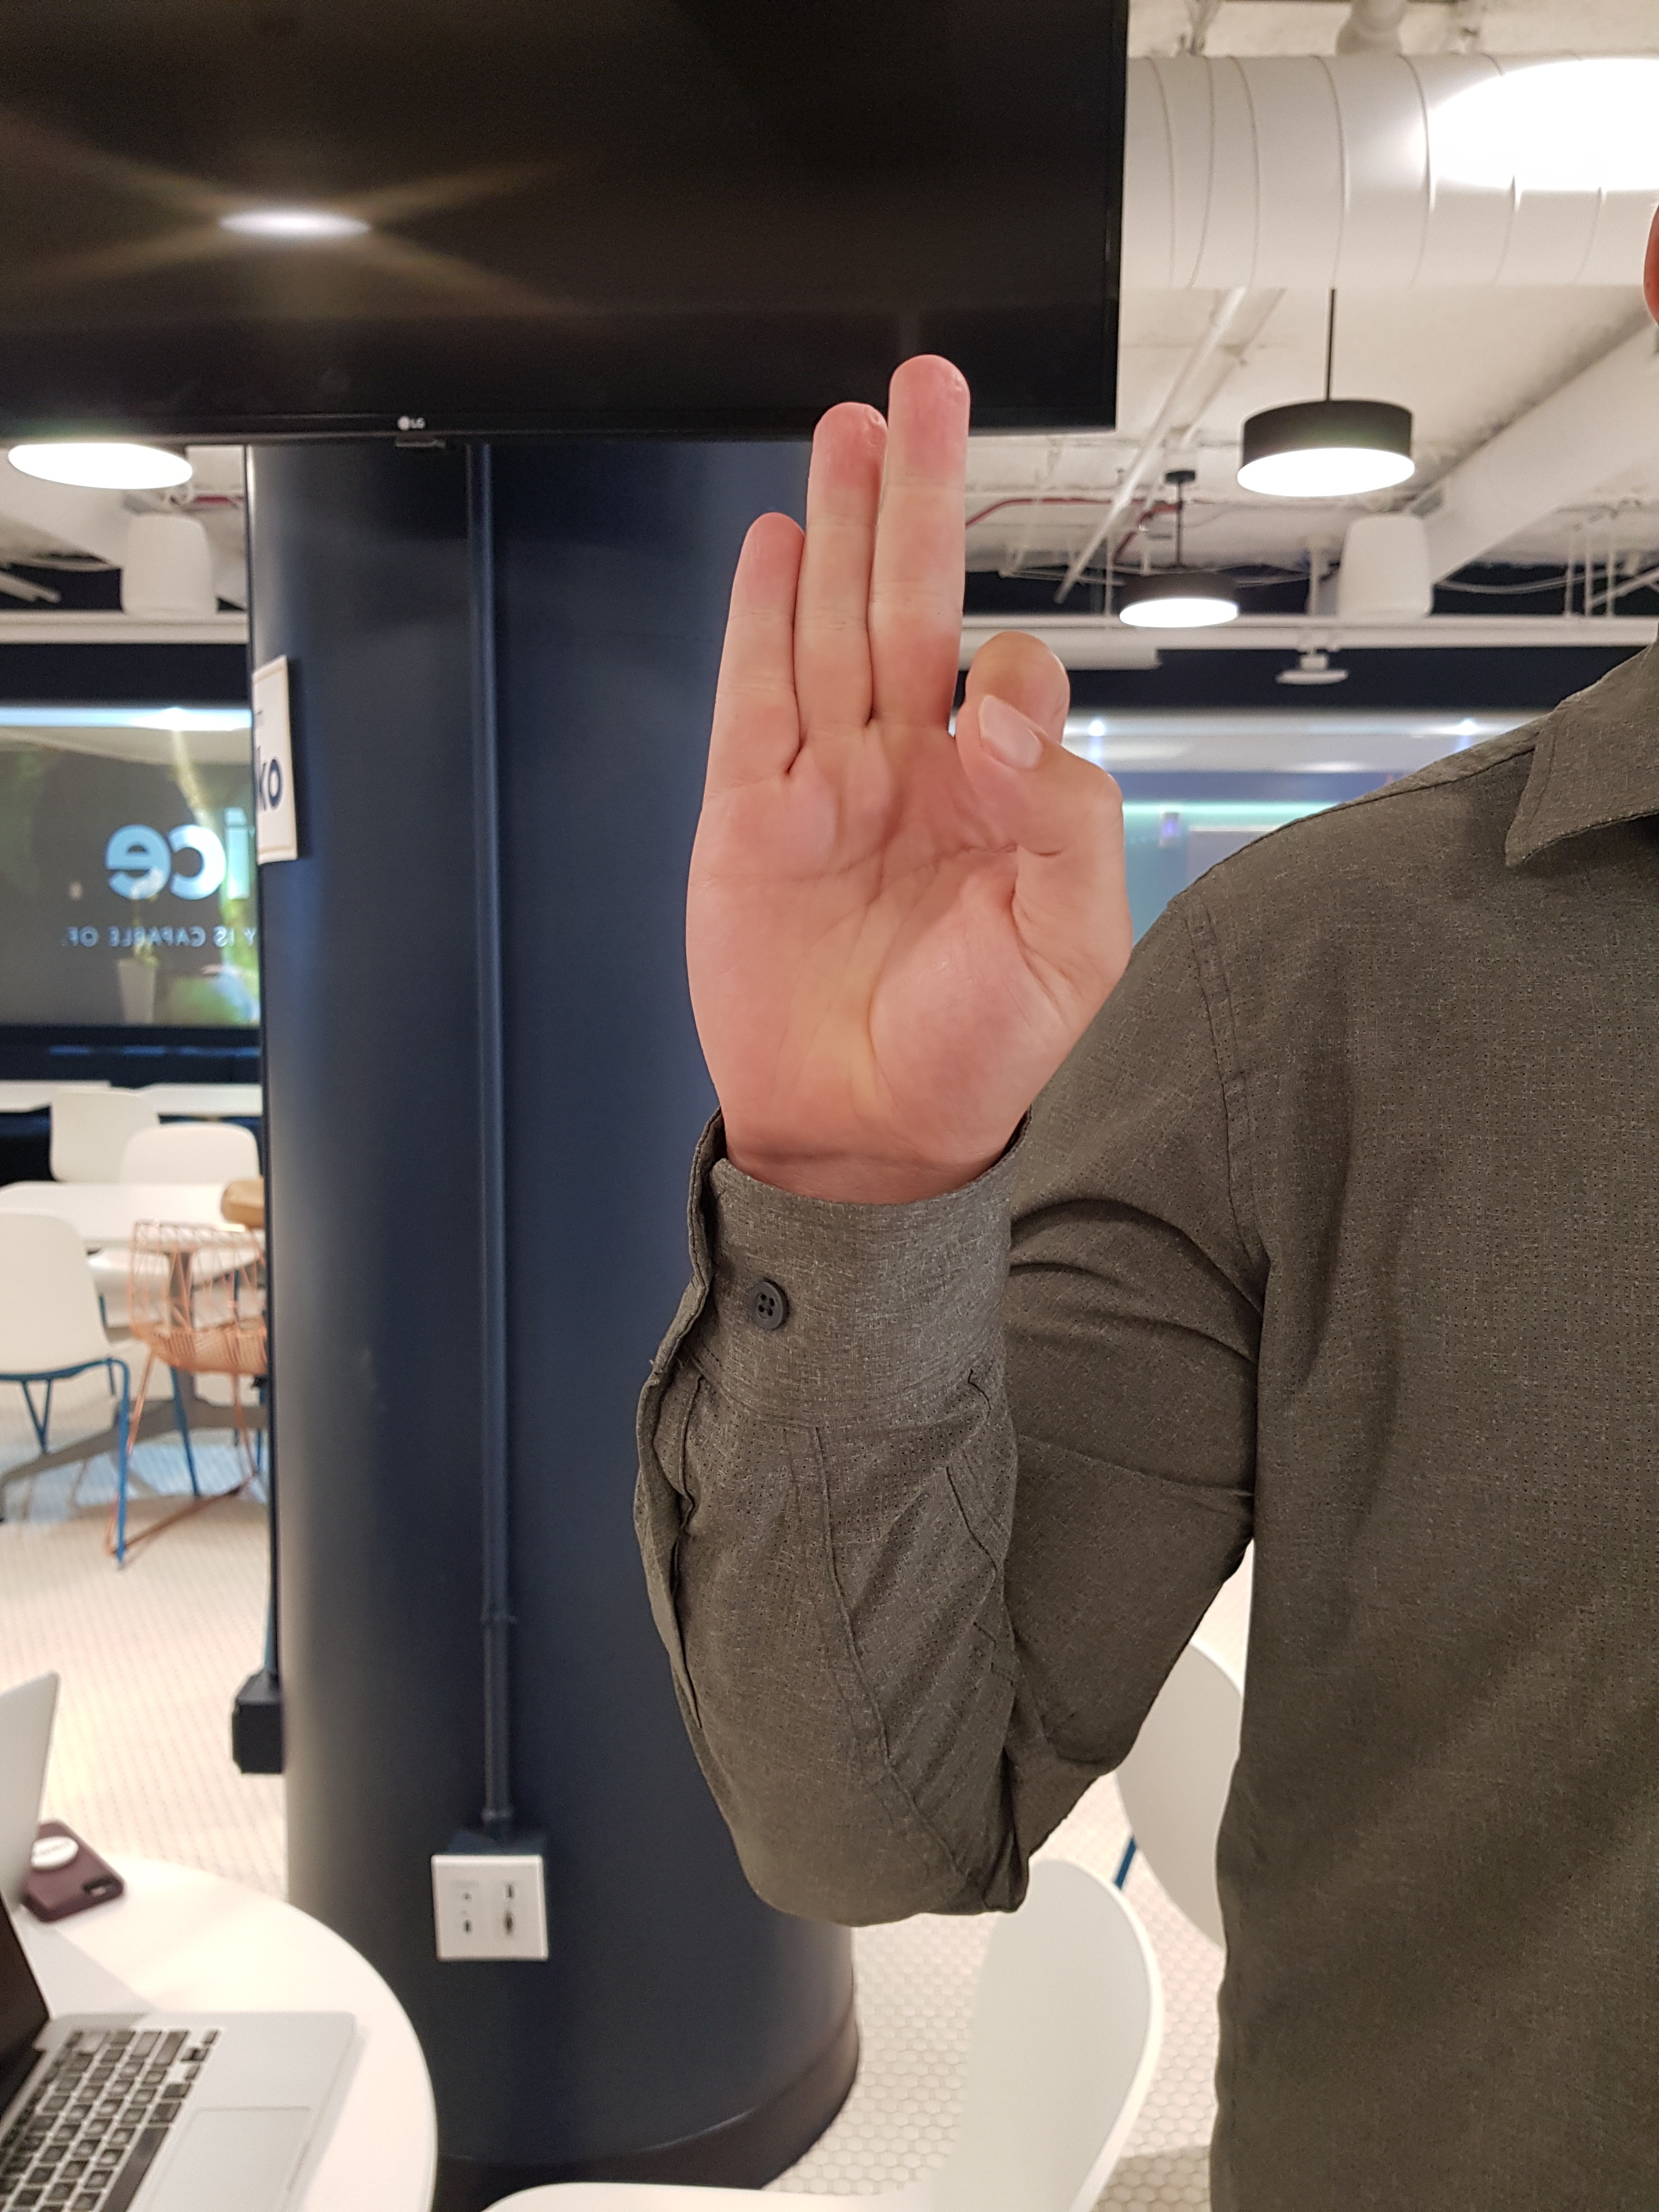f: (657, 326, 1161, 1191)
